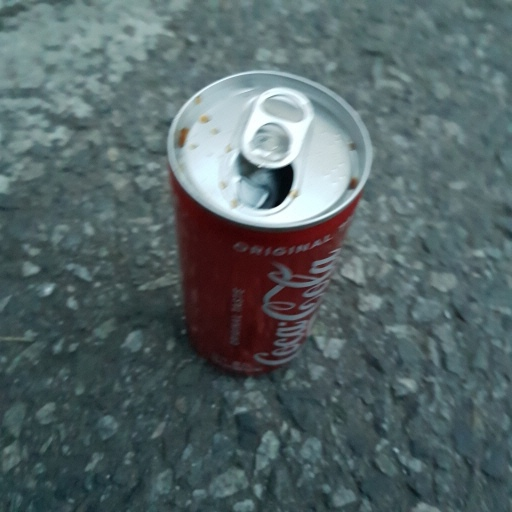Metal_0: (161, 68, 370, 379)
